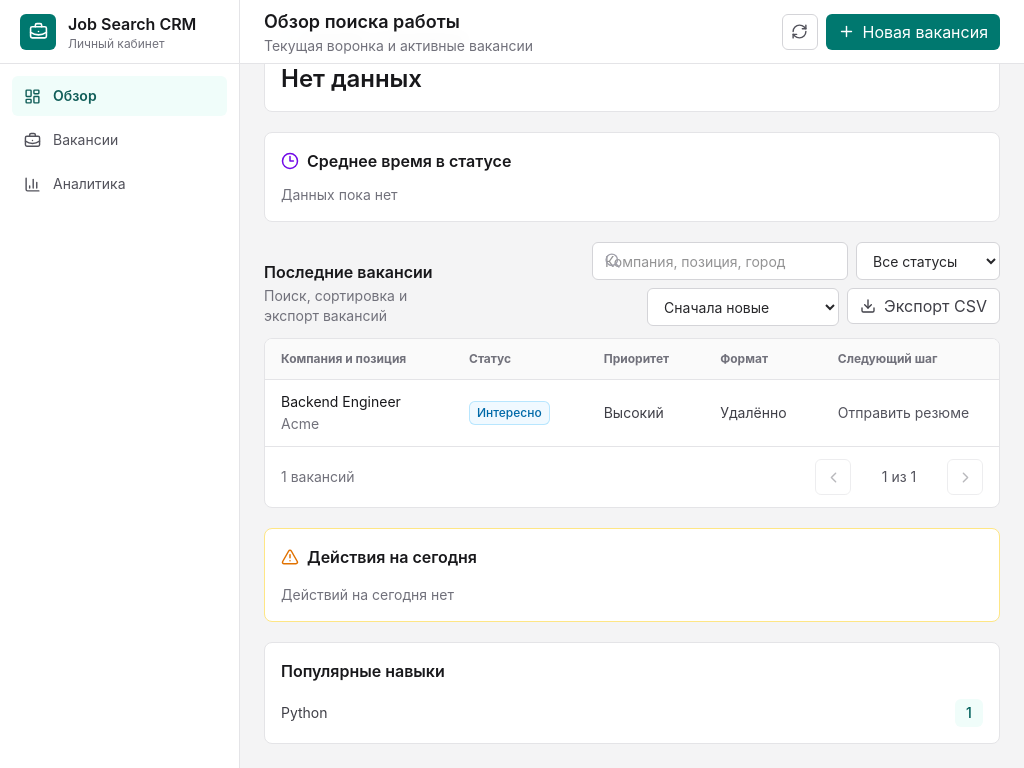
Test: App › открывает полную карточку выбранной вакансии
(page scrolled)
Click the button with aria-label "Открыть карточку Backend Engineer в Acme" at [341, 402], box [281, 392, 401, 412]
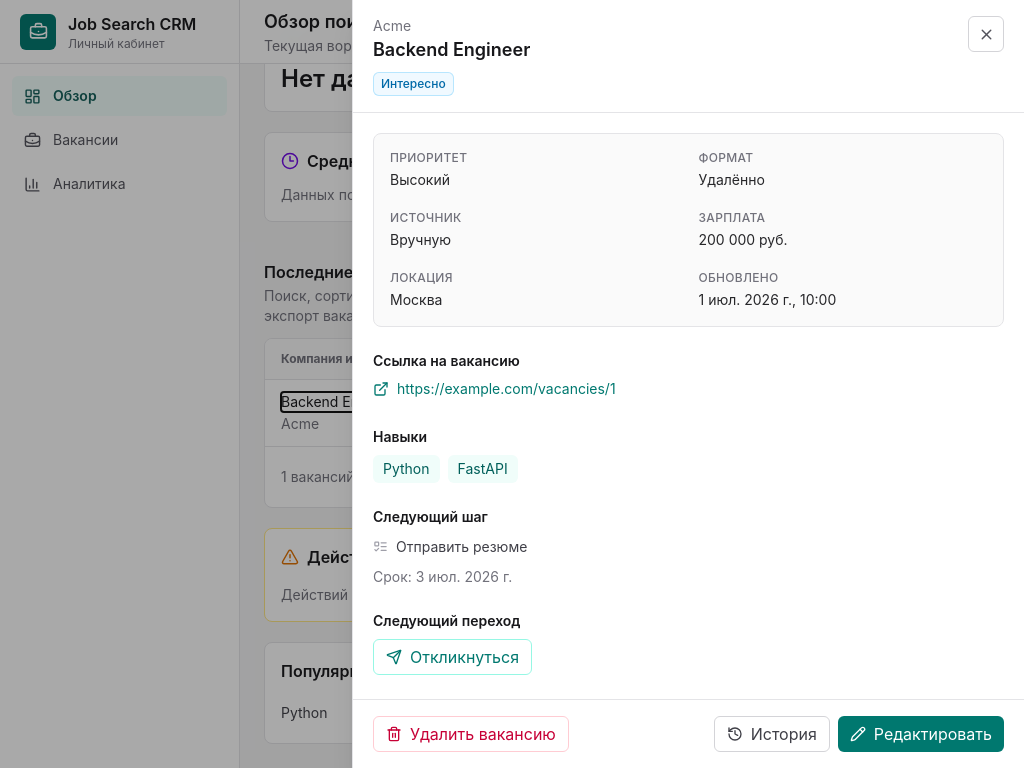
Expected: the text "200 000 руб." is shown, [698, 231, 788, 248]
Expected: the text "Отправить резюме" is shown, [373, 538, 527, 555]
